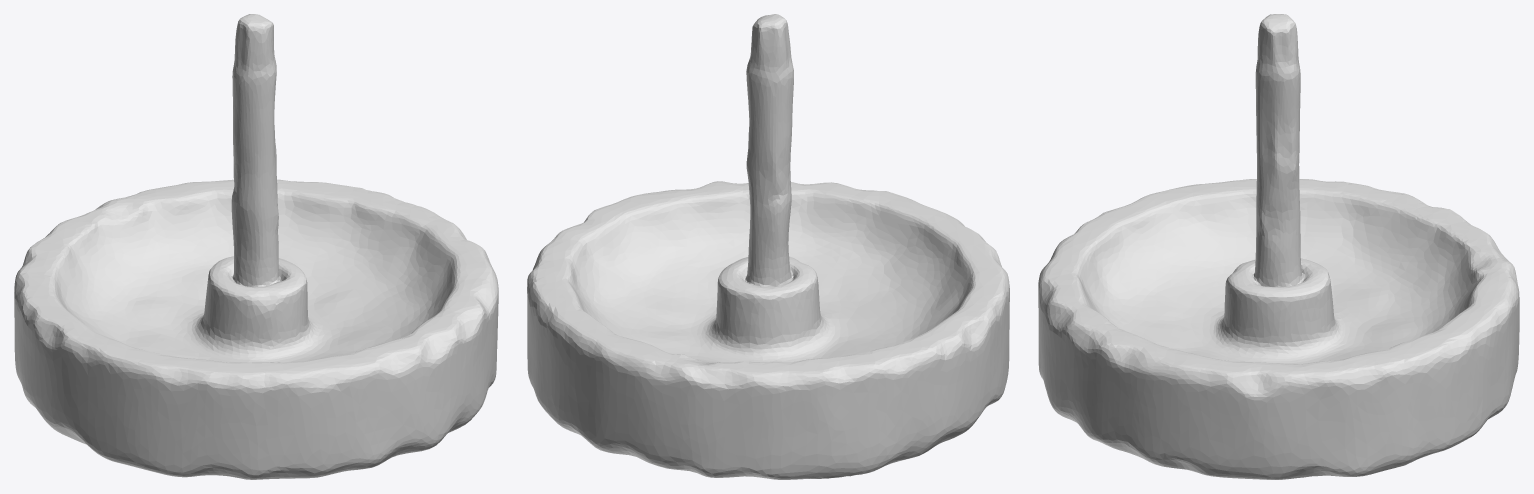
File: rit_incense_burner01.glb
3 renders of one model, left to right at view 1: azimuth 30°, elevation 25°; view 2: azimuth 150°, elevation 25°; view 3: azimuth 270°, elevation 25°, orthographic.
Parts seen in each view (by area): view 1: Low; view 2: Low; view 3: Low.
Part boxes in pixels (bbox=[...]): Low: bbox=[14, 14, 498, 479]; Low: bbox=[527, 14, 1009, 479]; Low: bbox=[1038, 14, 1519, 479].
Size of the model in its own units: 1.99 by 1.69 by 1.99.
Materials: 1 (1 with a texture image).
